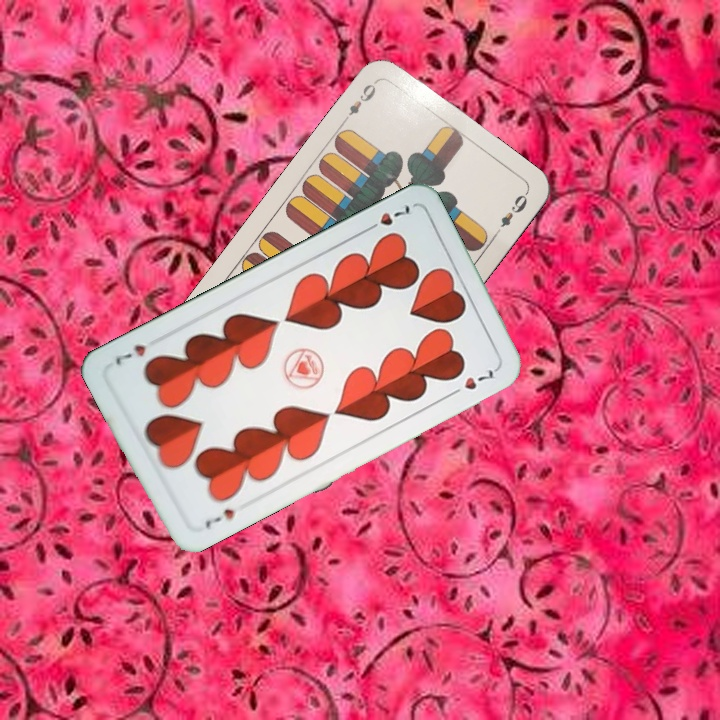E9: (339, 76, 381, 126)
H7: (361, 201, 413, 235), (201, 504, 237, 530)
